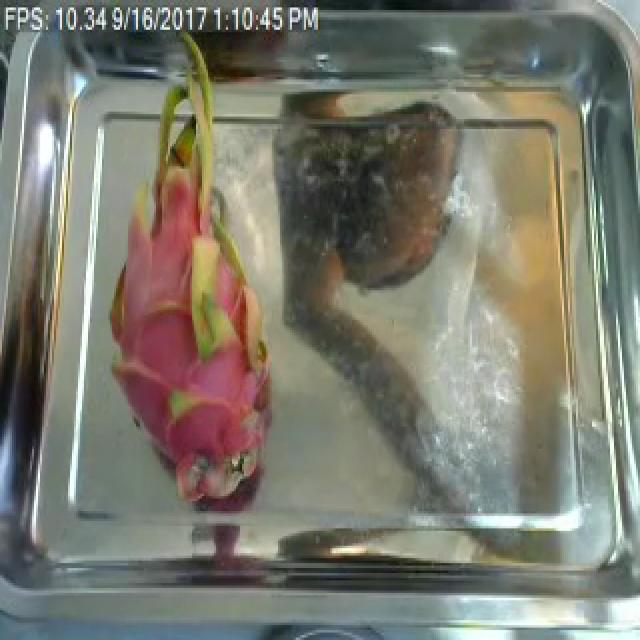fruit: (86, 42, 292, 494)
